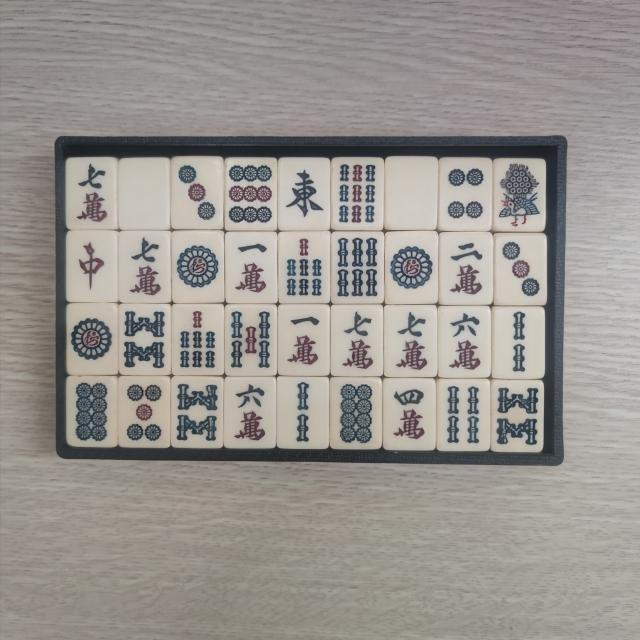hdr: (73, 235, 114, 298)
hdw: (390, 163, 434, 226), (123, 164, 166, 226)
hwe: (282, 162, 326, 225)
sb1: (498, 163, 544, 229)
sb2: (280, 380, 324, 446), (499, 310, 541, 374)
sb4: (442, 383, 485, 448)
sb5: (227, 310, 271, 373)
sb6: (335, 238, 379, 302)
sb7: (283, 237, 327, 300), (177, 309, 220, 372)
sb8: (122, 309, 168, 373), (496, 385, 541, 450), (174, 382, 218, 445)
sb9: (336, 160, 379, 225)
sc1: (281, 310, 324, 372), (230, 238, 272, 300)
sc2: (444, 238, 488, 302)
sc4: (390, 384, 432, 446)
sc6: (443, 308, 485, 372), (230, 382, 272, 445)
sc7: (390, 308, 434, 372), (72, 160, 114, 226), (335, 308, 378, 372), (124, 234, 166, 298)
sd1: (389, 238, 436, 302), (174, 238, 220, 301), (72, 309, 116, 372)
sd3: (174, 160, 219, 224), (500, 239, 543, 302)
sd4: (443, 161, 488, 225)
sd5: (124, 382, 166, 445)
sd8: (336, 383, 378, 446), (71, 382, 112, 444)
sd9: (230, 162, 276, 227)
